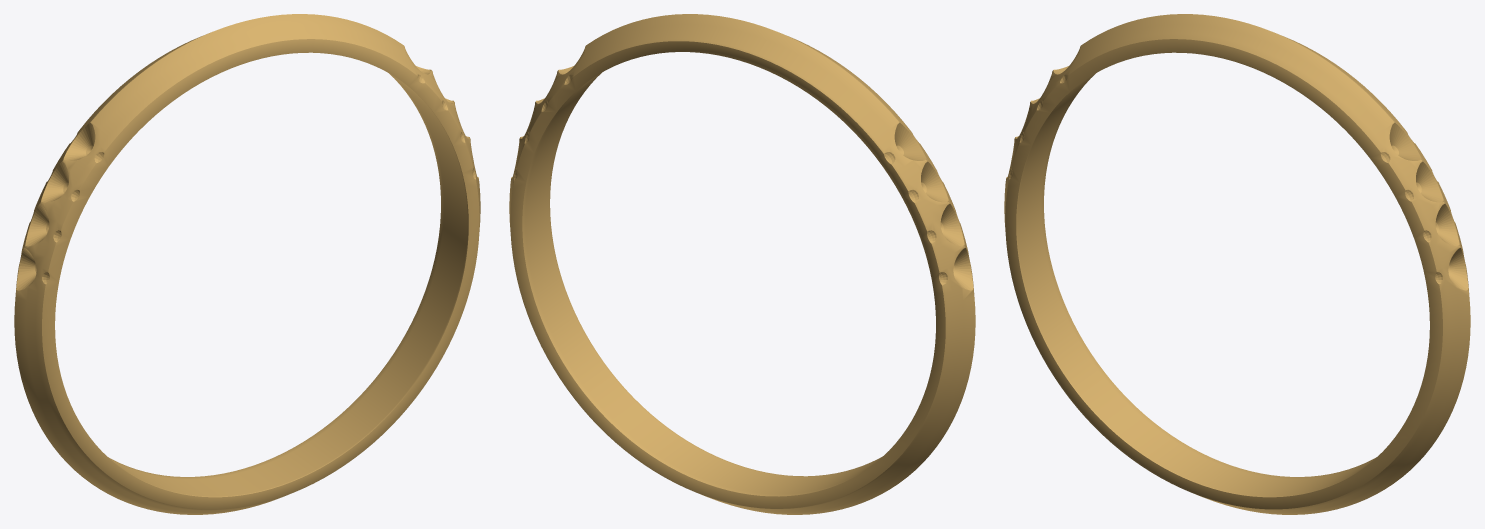
The model's file is knife-edge-scalloped-u-cut-head.glb.
The picture shows the model from 3 angles, left to right: view 1: azimuth 30°, elevation 25°; view 2: azimuth 150°, elevation 25°; view 3: azimuth 330°, elevation 25°; orthographic projection.
Parts seen in each view (by area): view 1: Band; view 2: Band; view 3: Band.
Boxes of the visible parts, <box> form: Band: <box>14,14,480,514</box>; Band: <box>509,14,975,514</box>; Band: <box>1004,14,1470,514</box>.
Bounding box in the file's own units: 19.6 × 19.6 × 2.1.
